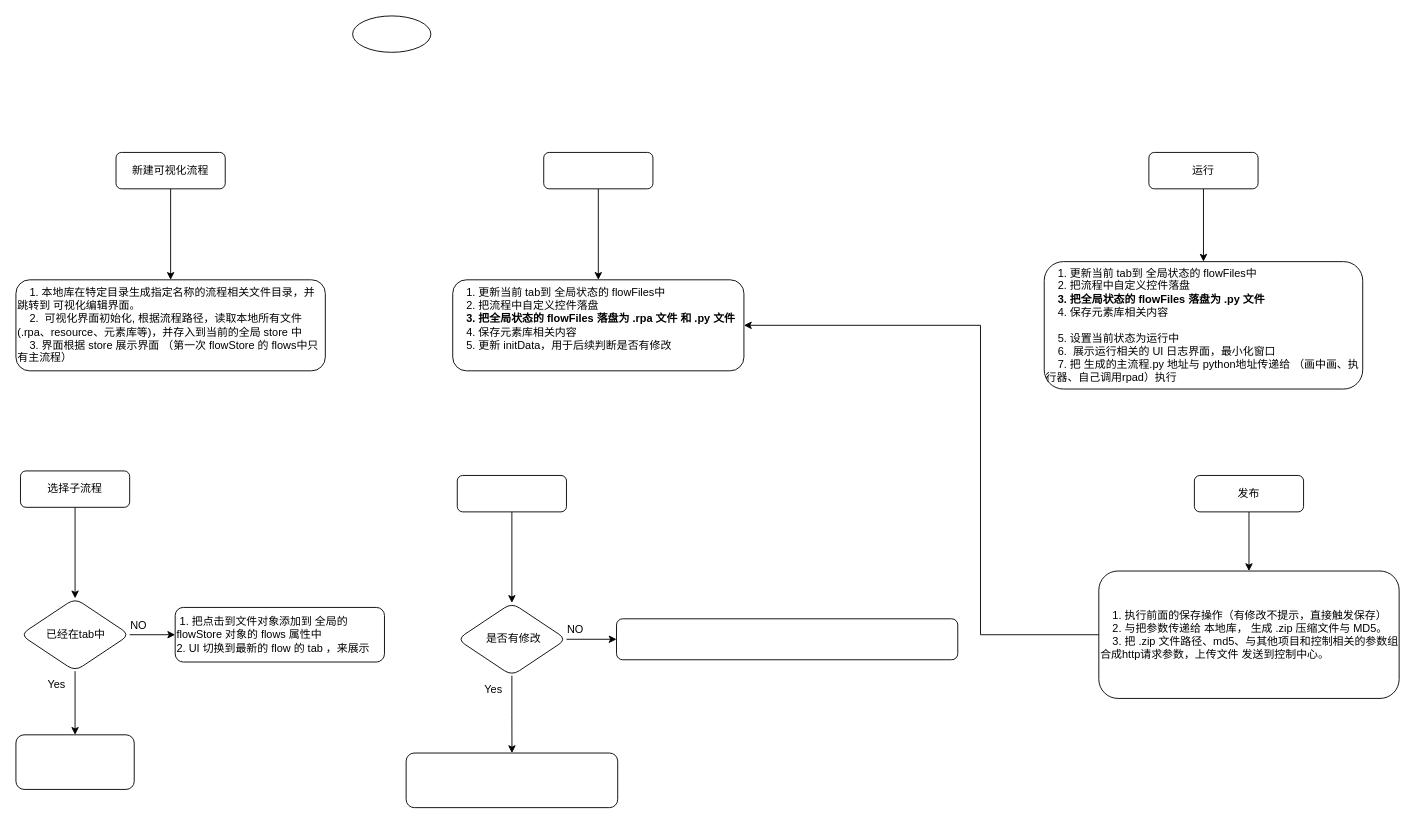
Image size: 1415x824. Some labels were removed from this diagram. The shapes that lost their labels are listed below. From the top down, each one's centre as x and y in pixels, then its label:
At (391,33): "start".
At (598,170): "保存 按钮".
At (511,493): "刷新".
At (787,639): "与新建可视化流程的第 2 步类似, 把本地文件恢复至 全局状态中".
At (74,761): "切换到那个 tab 中".
At (511,780): "提示用户 有更改，并二次确认是否保存".
